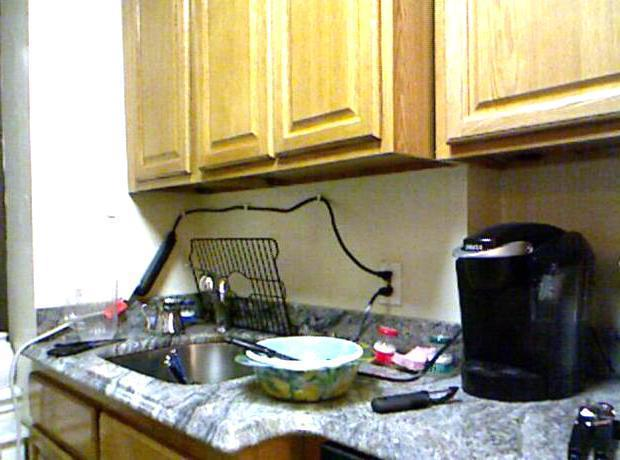Lavaplatos: (94, 258, 326, 403)
